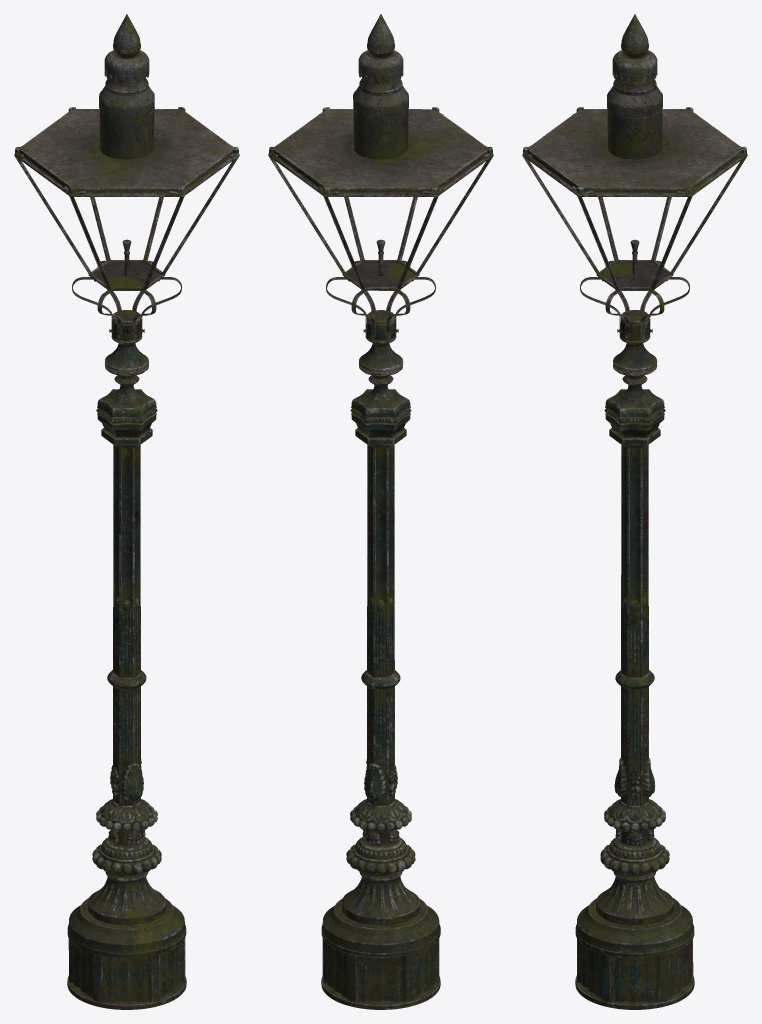
The model's file is pad-street-lamp-overgrown.glb.
3 views of the same model, side by side, from view 1: azimuth 30°, elevation 25°; view 2: azimuth 150°, elevation 25°; view 3: azimuth 270°, elevation 25° (orthographic).
Parts seen in each view (by area): view 1: SM_PAD_StreetLamp_c1_LOD0_Overgrown; view 2: SM_PAD_StreetLamp_c1_LOD0_Overgrown; view 3: SM_PAD_StreetLamp_c1_LOD0_Overgrown.
Boxes of the visible parts, x1,y1,x2,y2 form: SM_PAD_StreetLamp_c1_LOD0_Overgrown: (14,14,239,1009); SM_PAD_StreetLamp_c1_LOD0_Overgrown: (268,14,493,1009); SM_PAD_StreetLamp_c1_LOD0_Overgrown: (522,14,747,1009).
Size of the model in its own units: 0.6281 by 3.44 by 0.7225.
Materials: 1 (1 with a texture image).
